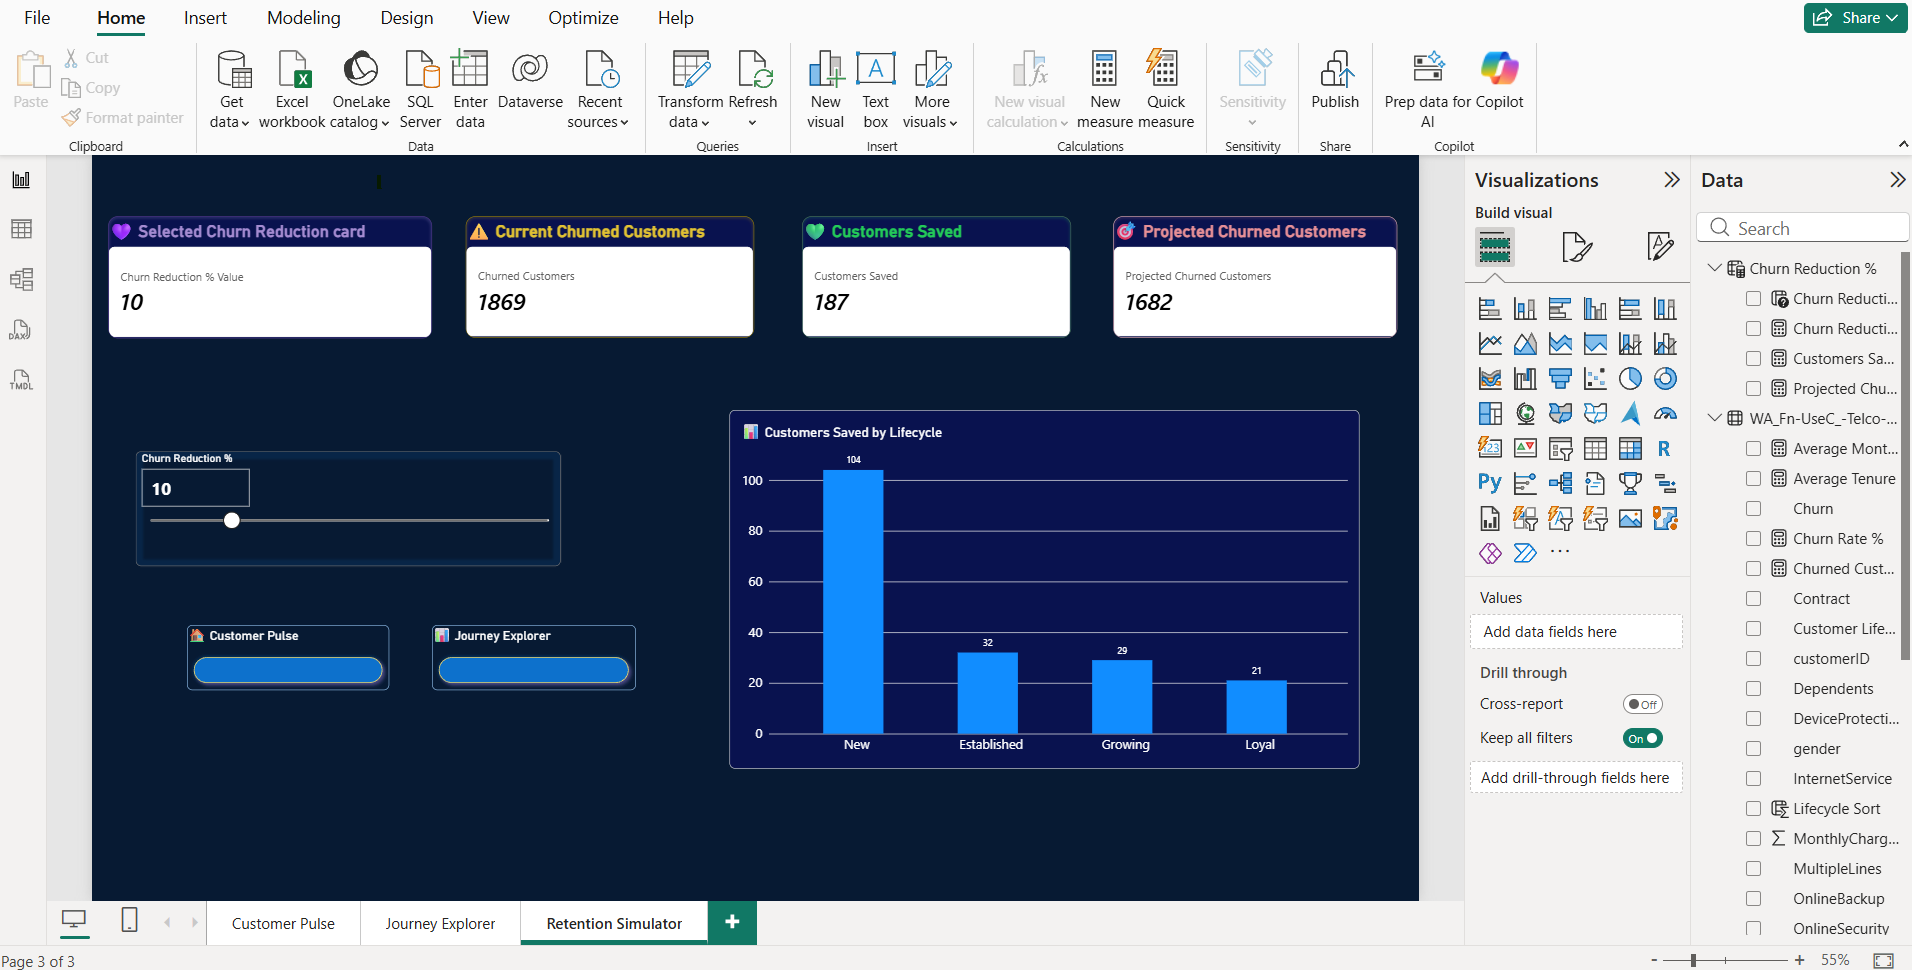

The dashboard page shown, as its layout file describes it:
{"tool":"powerbi","page":{"name":"Retention Simulator","canvas":[1920,1080],"ordinal":2},"visuals":[{"type":"slicer","fields":{"Values":["Churn Reduction %.Churn Reduction %"]},"box":[63.3,428.9,615.3,166.5],"z":0},{"type":"cardVisual","title":"💜 Selected Churn Reduction card","fields":{"Data":["Churn Reduction %.Churn Reduction % Value"]},"box":[24.2,88,469,177],"z":1000},{"type":"cardVisual","title":"⚠️ Current Churned Customers","fields":{"Data":["WA_Fn-UseC_-Telco-Customer-Churn.Churned Customers"]},"box":[541.2,88,418,176],"z":2000},{"type":"cardVisual","title":"🎯 Projected Churned Customers","fields":{"Data":["Churn Reduction %.Projected Churned Customers"]},"box":[1478.3,88,411.4,176],"z":3000},{"type":"cardVisual","title":"💚 Customers Saved","fields":{"Data":["Churn Reduction %.Customers Saved"]},"box":[1027.3,88,389.4,176],"z":4000},{"type":"clusteredColumnChart","title":"📊 Customers Saved by Lifecycle","fields":{"Category":["WA_Fn-UseC_-Telco-Customer-Churn.Customer Lifecycle"],"Y":["Churn Reduction %.Customers Saved"]},"box":[922.9,369.2,912.1,519.4],"z":5000},{"type":"textbox","box":[24,275,469,154],"z":6000},{"type":"actionButton","title":"🏠 Customer Pulse","box":[137.5,680.4,293.2,94.1],"z":7000},{"type":"actionButton","title":"📊 Journey Explorer","box":[492.2,680.4,295,94.1],"z":8000}]}

Visuals, with their boxes on the page's 1920x1080 design canvas (x1, y1, x2, y2). These are canvas units, not pixel positions in the 1912x970 screenshot, which may show the page scaled, cropped or inside an application window:
slicer - Churn Reduction %.Churn Reduction %: [x1=63, y1=429, x2=679, y2=595]
"💜 Selected Churn Reduction card" cardVisual: [x1=24, y1=88, x2=493, y2=265]
"⚠️ Current Churned Customers" cardVisual: [x1=541, y1=88, x2=959, y2=264]
"🎯 Projected Churned Customers" cardVisual: [x1=1478, y1=88, x2=1890, y2=264]
"💚 Customers Saved" cardVisual: [x1=1027, y1=88, x2=1417, y2=264]
"📊 Customers Saved by Lifecycle" clusteredColumnChart: [x1=923, y1=369, x2=1835, y2=889]
textbox: [x1=24, y1=275, x2=493, y2=429]
"🏠 Customer Pulse" actionButton: [x1=138, y1=680, x2=431, y2=774]
"📊 Journey Explorer" actionButton: [x1=492, y1=680, x2=787, y2=774]
